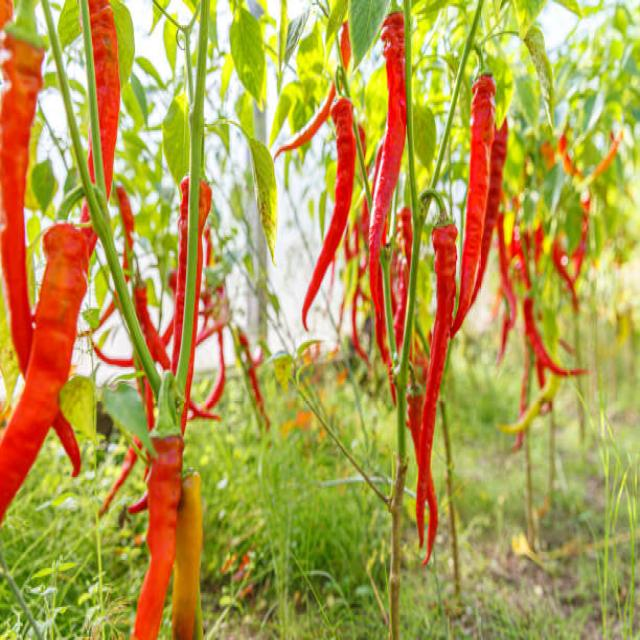Ripe: (0, 223, 92, 522), (0, 0, 44, 376), (416, 225, 458, 545), (369, 13, 406, 361), (302, 98, 356, 329), (450, 75, 495, 337), (132, 435, 184, 638), (470, 118, 508, 305), (89, 0, 120, 194), (173, 472, 202, 638), (274, 83, 336, 158), (171, 176, 188, 372), (394, 206, 412, 350), (52, 409, 79, 475), (422, 472, 438, 563), (408, 386, 422, 475)
